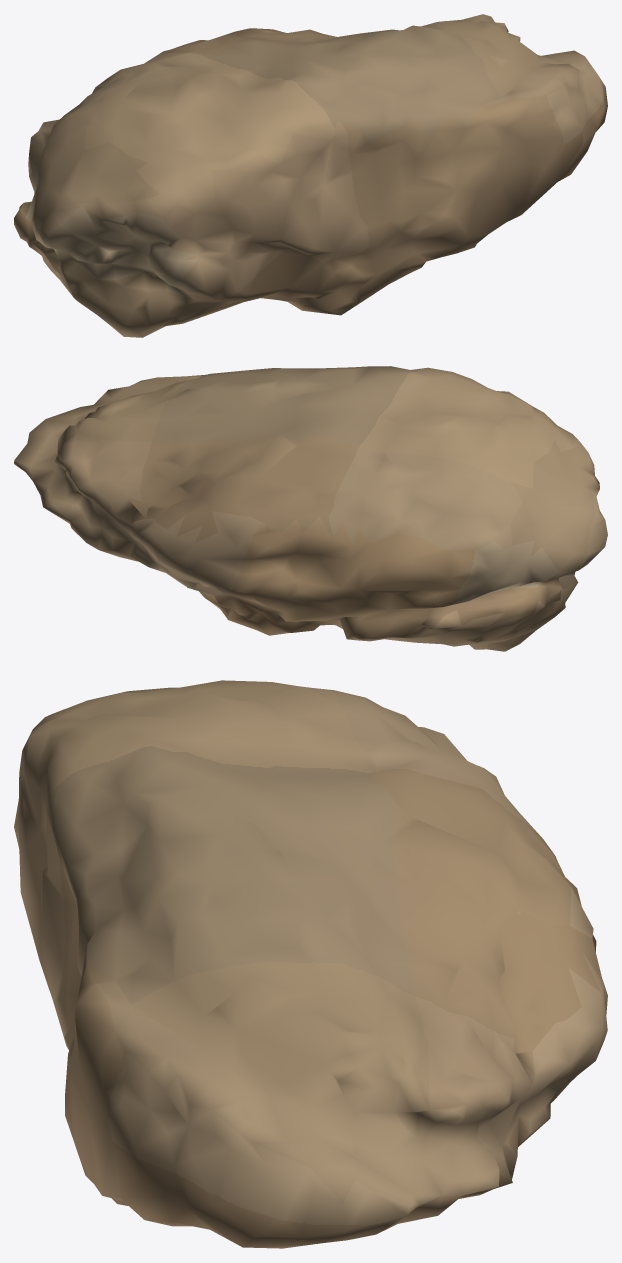
File: ph_boulder_4.glb
3 views of the same model, one above another, from view 1: azimuth 30°, elevation 25°; view 2: azimuth 150°, elevation 25°; view 3: azimuth 270°, elevation 25° (orthographic). The views are drawn at different scales.
Visible parts, largest first — view 1: ph_boulder_4_lod1; view 2: ph_boulder_4_lod1; view 3: ph_boulder_4_lod1.
Boxes of the visible parts, <box> form: ph_boulder_4_lod1: <box>14,14,607,337</box>; ph_boulder_4_lod1: <box>14,366,607,651</box>; ph_boulder_4_lod1: <box>14,680,607,1248</box>.
Bounding box in the file's own units: 1.36 × 0.5329 × 0.7442.
1 material, 1 textured.
